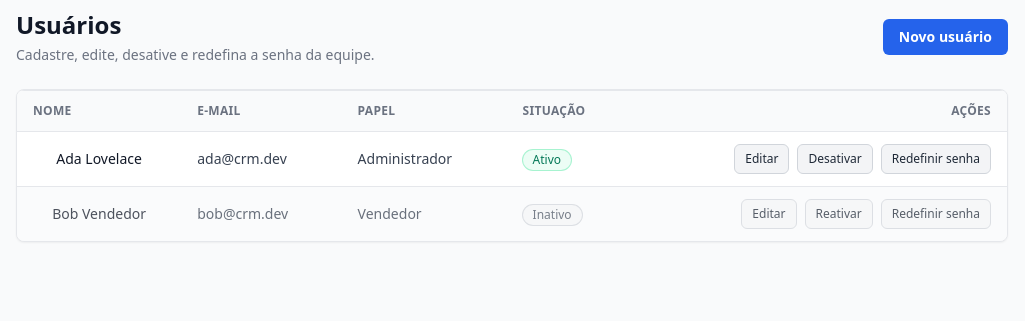
Test case: página de usuários › explica o LAST_ADMIN ao tentar desativar o último admin
The width and height of the screenshot is (1025, 321).
Click the button "Desativar" at (835, 159), box x1=798 y1=144 x2=873 y2=174
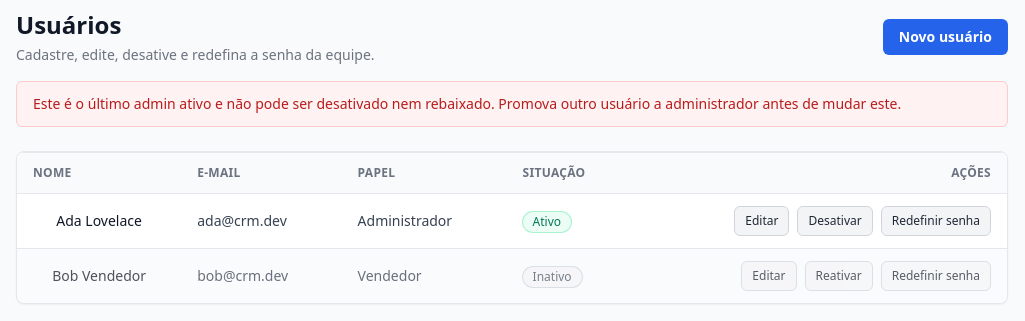
Now the message shows "último admin ativo", box x1=33 y1=94 x2=901 y2=113
